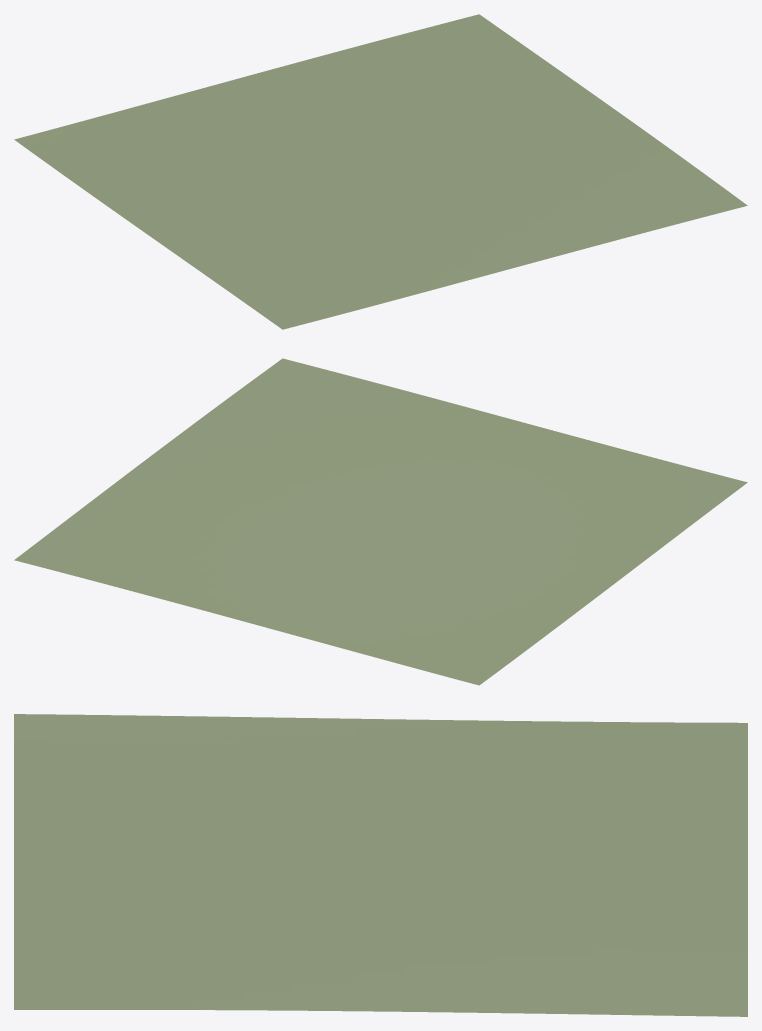
The model's file is expanse-19-5.glb.
3 renders of one model, top to bottom at view 1: azimuth 30°, elevation 25°; view 2: azimuth 150°, elevation 25°; view 3: azimuth 270°, elevation 25°, orthographic. The views are drawn at different scales.
Parts seen in each view (by area): view 1: expanse-19-5; view 2: expanse-19-5; view 3: expanse-19-5.
Part boxes in pixels (x1,y1,x2,y2): expanse-19-5: [14, 14, 747, 329]; expanse-19-5: [14, 358, 747, 685]; expanse-19-5: [14, 714, 747, 1016].
Bounding box in the file's own units: 256 × 8.94 × 256.
